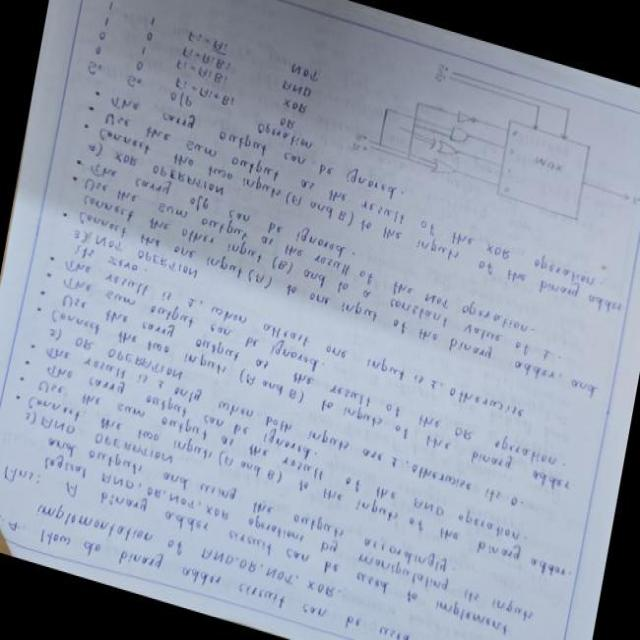Figure Detection - v3 Dataset Version2: (334, 28, 640, 247)
